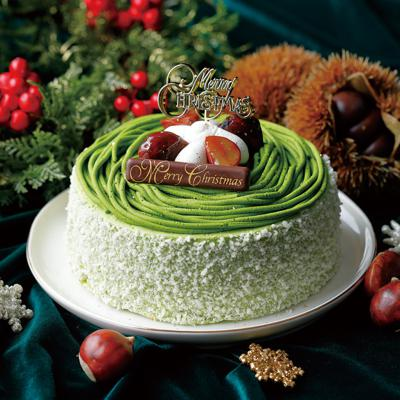cake: (67, 89, 342, 322)
